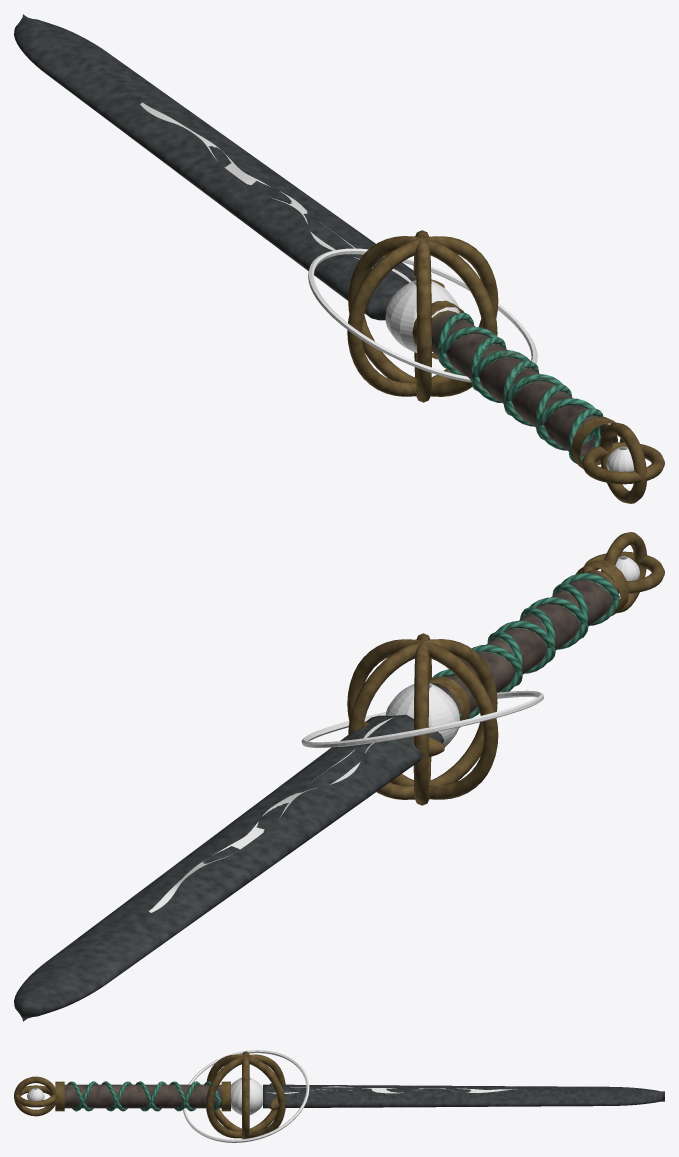
File: Sword3.fbx
3 views of the same model, one above another, from view 1: azimuth 30°, elevation 25°; view 2: azimuth 150°, elevation 25°; view 3: azimuth 270°, elevation 25° (orthographic). The views are drawn at different scales.
Visible parts, largest first — view 1: Sword3_Body, Sword3_Glow_14d296; view 2: Sword3_Body, Sword3_Glow_14d296; view 3: Sword3_Body, Sword3_Glow_14d296.
Part boxes in pixels (x1,y1,x2,y2): Sword3_Body: (14, 14, 664, 503); Sword3_Glow_14d296: (140, 102, 634, 471); Sword3_Body: (14, 532, 664, 1021); Sword3_Glow_14d296: (149, 556, 639, 912); Sword3_Body: (14, 1051, 664, 1139); Sword3_Glow_14d296: (27, 1050, 517, 1142).
Size of the model in its own units: 1.07 by 0.788 by 5.67.
Materials: 2 (1 with a texture image).
